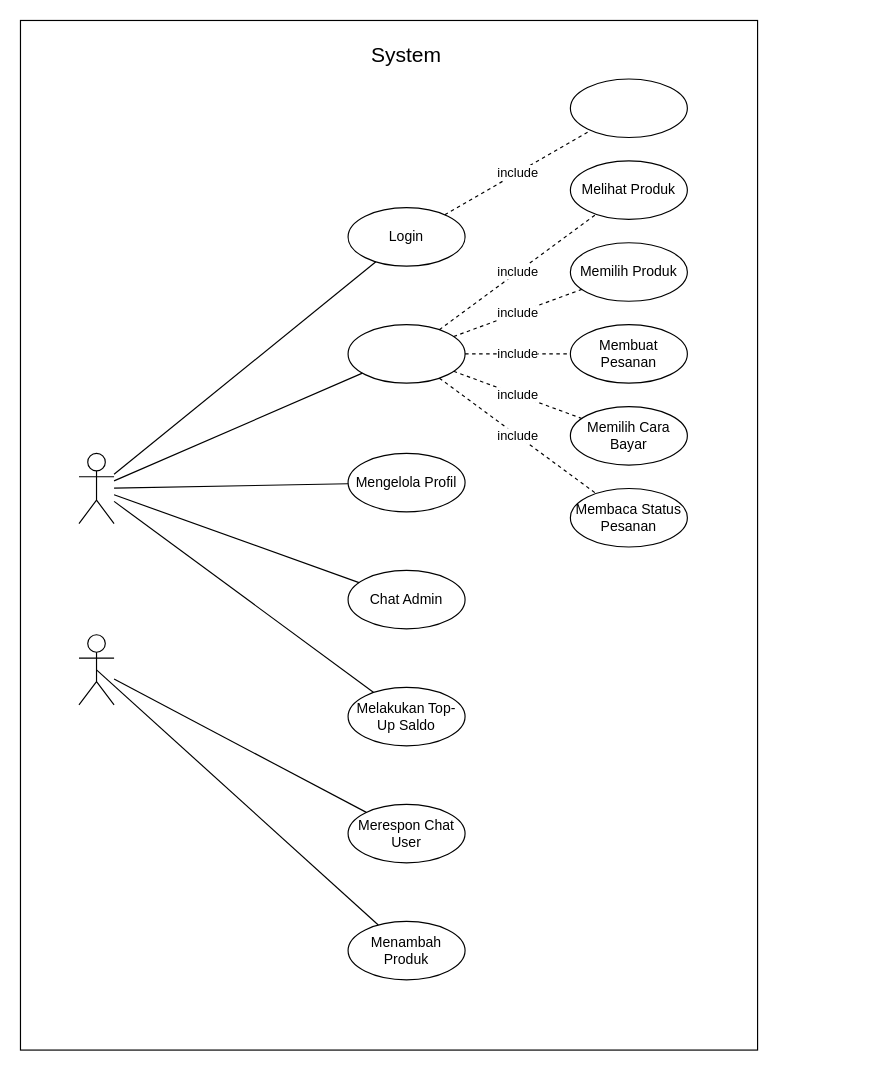
Some shapes in this 869 by 1071 pixel diagram are drawn without their labels. Each missing label, with the centre of its shape:
"Admin" goes at [96,669].
"Customer" goes at [96,488].
"Membeli Produk" goes at [406,353].
"Register" goes at [628,107].
